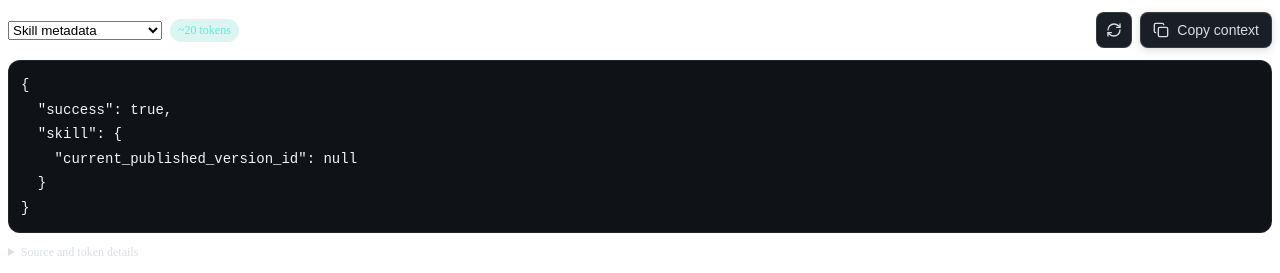
Test: no published skill version fails honestly and does not fetch draft content
The width and height of the screenshot is (1280, 273).
Select "Published skill content" in the dropdown named "Context format" at (85, 30), box [8,20,162,40]
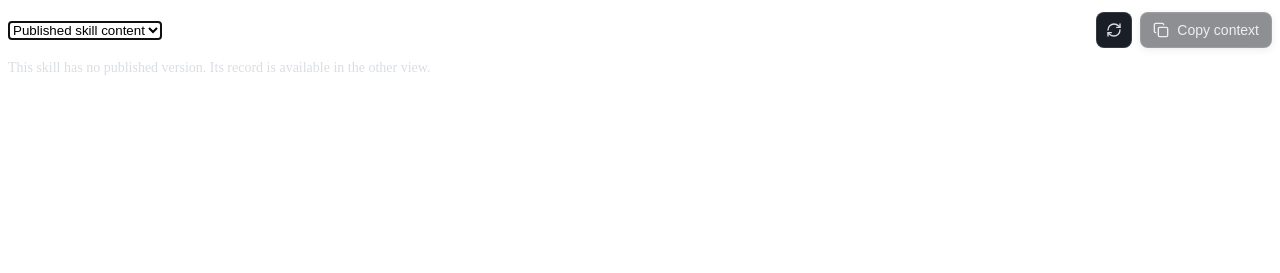
Expected: the message shows "no published version", [8,60,430,75]
Expected: the button with aria-label "Copy displayed context" is disabled, [1140,12,1272,48]
